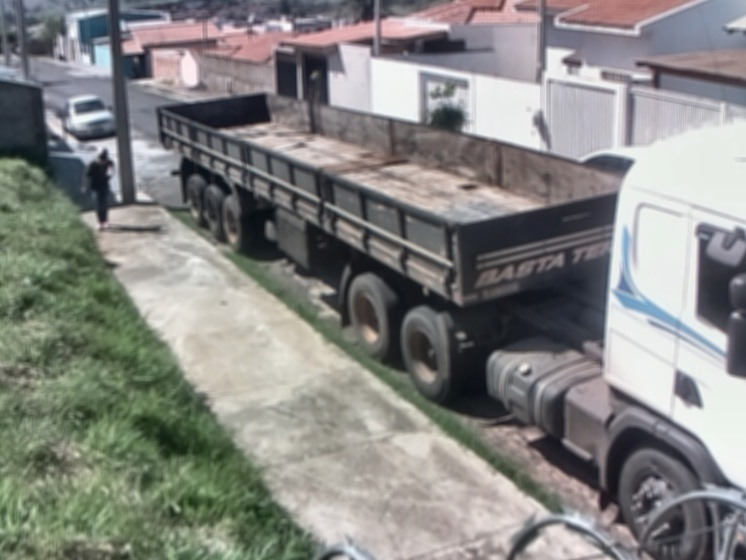person: (77, 149, 121, 233)
